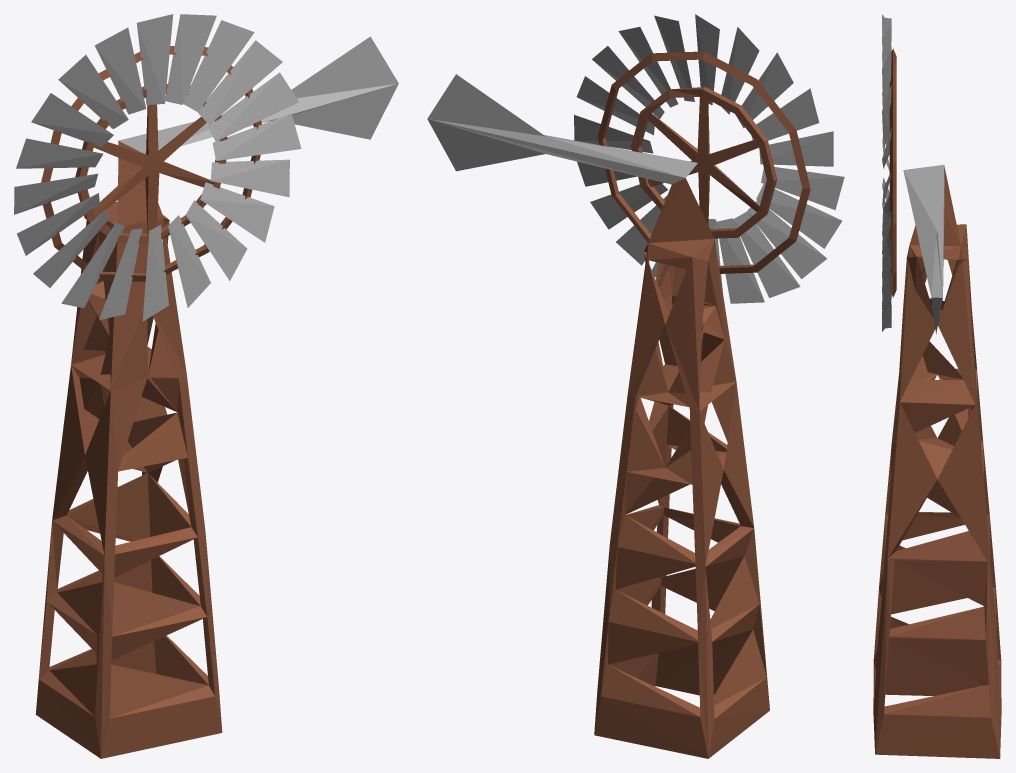
The model's file is Windmill.lod1.glb.
3 views of the same model, side by side, from view 1: azimuth 30°, elevation 25°; view 2: azimuth 150°, elevation 25°; view 3: azimuth 270°, elevation 25° (orthographic). The views are drawn at different scales.
Parts seen in each view (by area): view 1: Windmill, Windmill_Blades; view 2: Windmill, Windmill_Blades; view 3: Windmill, Windmill_Blades.
Boxes of the visible parts, bbox=[...] form: Windmill: bbox=[35, 36, 398, 758]; Windmill_Blades: bbox=[14, 14, 301, 321]; Windmill: bbox=[427, 74, 769, 758]; Windmill_Blades: bbox=[574, 14, 844, 303]; Windmill: bbox=[873, 164, 1001, 758]; Windmill_Blades: bbox=[882, 14, 896, 331].
Size of the model in its own units: 6.47 by 10.99 by 1.82.
